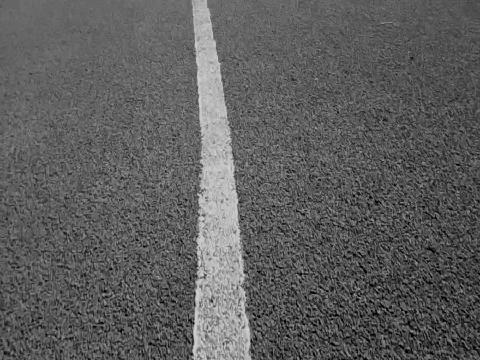Lines: (190, 0, 255, 360)
